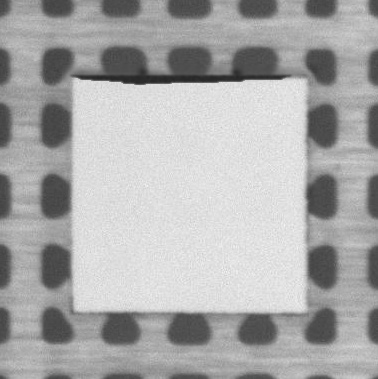DIE_BROKEN: (70, 68, 293, 88)
